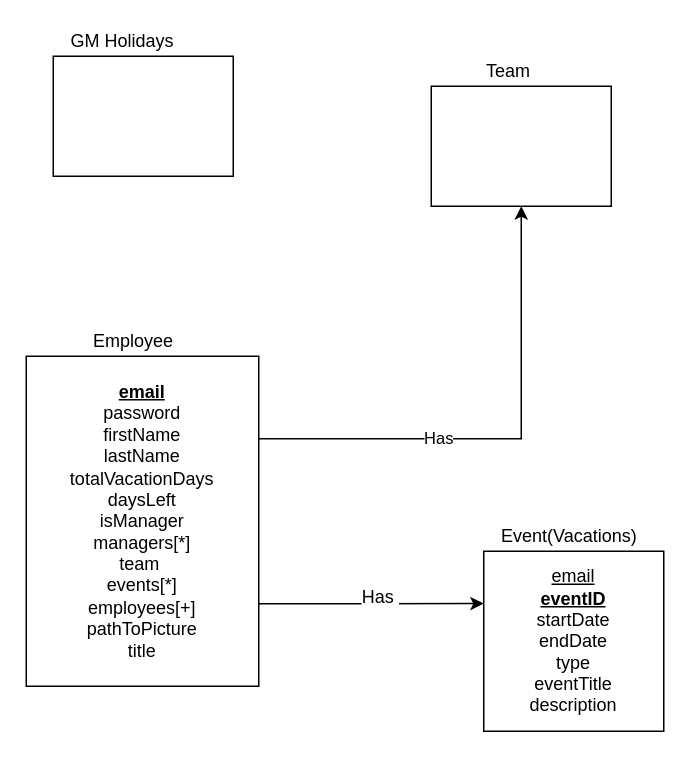
The diagram is 690 pixels wide and 758 high, and some of its shapes have lost their labels. Each missing label, with the centre of its shape:
"date name" belongs at pixel 142 115.
"teamID employee[+] manager" belongs at pixel 520 145.
